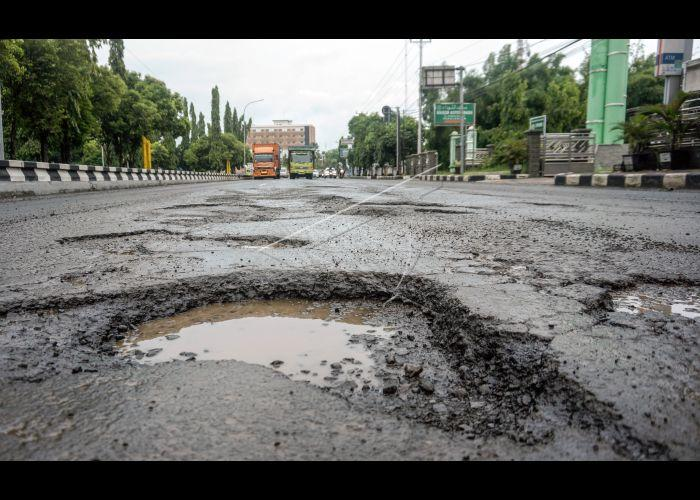Pothole: (12, 278, 544, 440), (565, 258, 700, 364), (40, 213, 203, 267), (296, 188, 482, 230), (156, 189, 297, 227), (208, 235, 319, 263), (515, 192, 584, 215)
